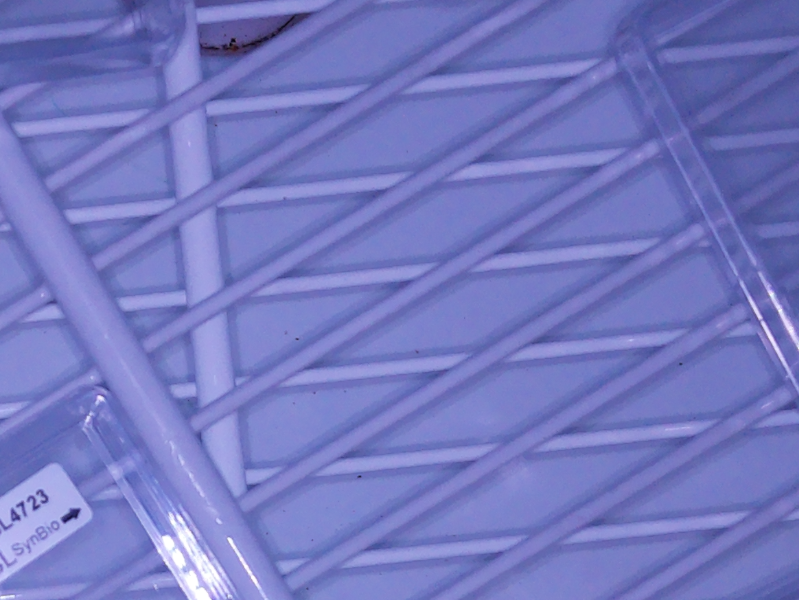plate: (613, 1, 799, 371), (1, 384, 222, 600), (1, 1, 186, 81)
